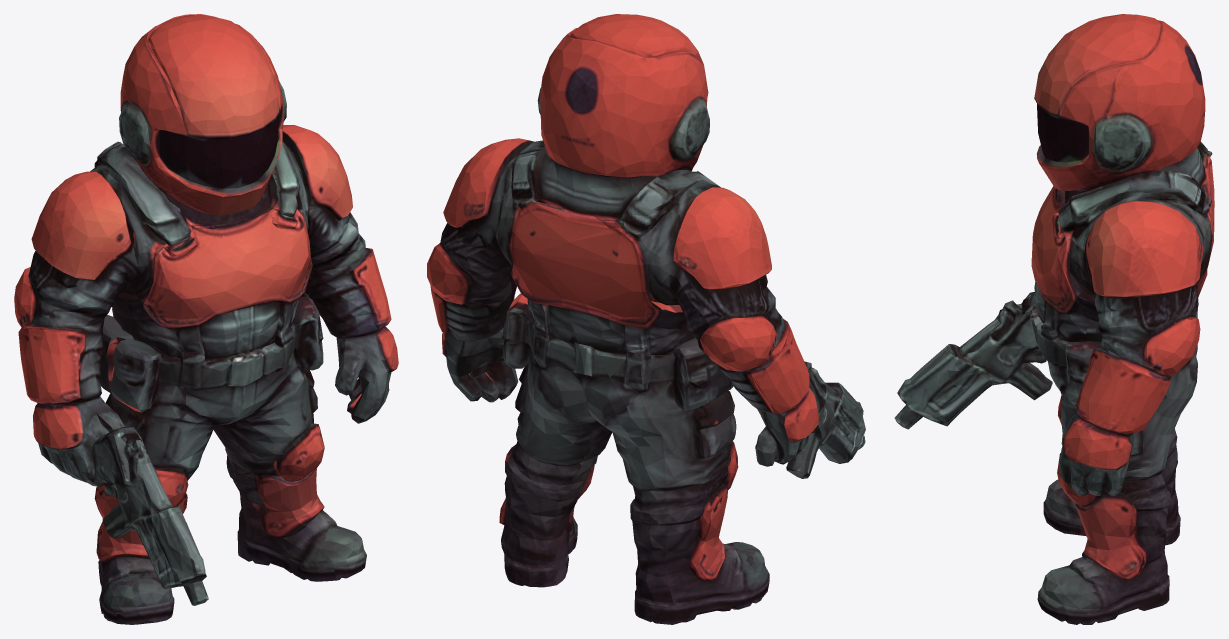
3 views of the same model, side by side, from view 1: azimuth 30°, elevation 25°; view 2: azimuth 150°, elevation 25°; view 3: azimuth 270°, elevation 25° (orthographic). The views are drawn at different scales.
Parts seen in each view (by area): view 1: figure; view 2: figure; view 3: figure.
Boxes of the visible parts, x1,y1,x2,y2 form: figure: [14, 14, 398, 624]; figure: [427, 14, 865, 624]; figure: [894, 14, 1214, 624].
Bounding box in the file's own units: 0.8003 × 1.2 × 0.6463.
1 material, 1 textured.
